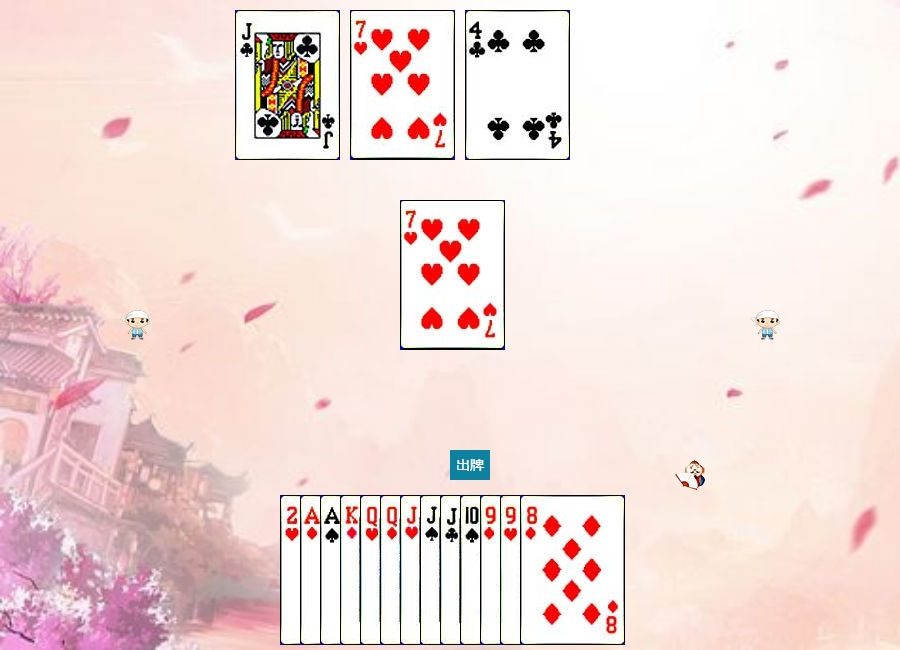10~4: (460, 495, 565, 645)
11~2: (235, 10, 340, 160), (440, 495, 545, 645)
11~3: (400, 495, 505, 645)
11~4: (420, 495, 525, 645)
12~1: (380, 495, 485, 645)
12~3: (360, 495, 465, 645)
13~1: (340, 495, 445, 645)
14~1: (300, 495, 405, 645)
14~4: (320, 495, 425, 645)
15~3: (280, 495, 385, 645)
4~2: (465, 10, 570, 160)
7~3: (350, 10, 455, 160), (400, 200, 505, 350)
8~1: (520, 495, 625, 645)
9~1: (480, 495, 585, 645)
9~3: (500, 495, 605, 645)
